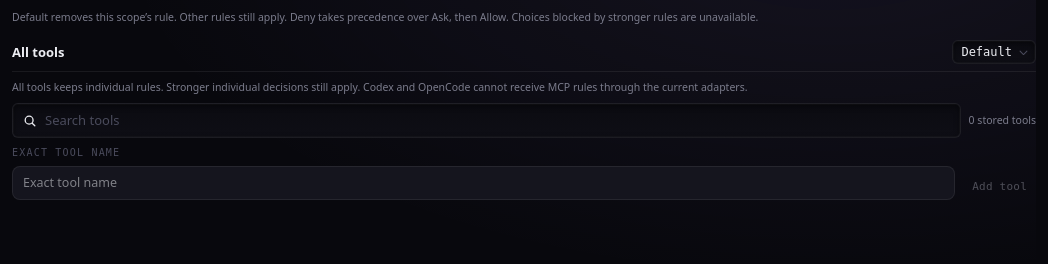
Test case: MCP permission controls › keeps All tools and manual entry usable without a catalog
The width and height of the screenshot is (1048, 264).
Expected: the dropdown named "All tools permission" is enabled, [952,40,1036,64]
Type "read_file" into the field named "Exact MCP tool name" at (484, 183), box [12,166,955,200]
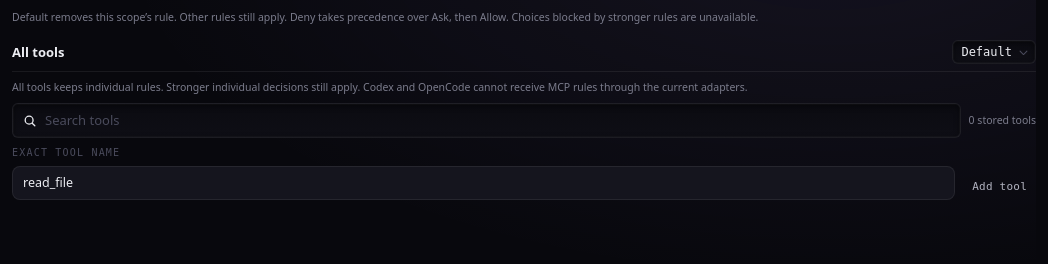
Click the button "Add tool" at (1000, 187), box [963,174,1036,200]
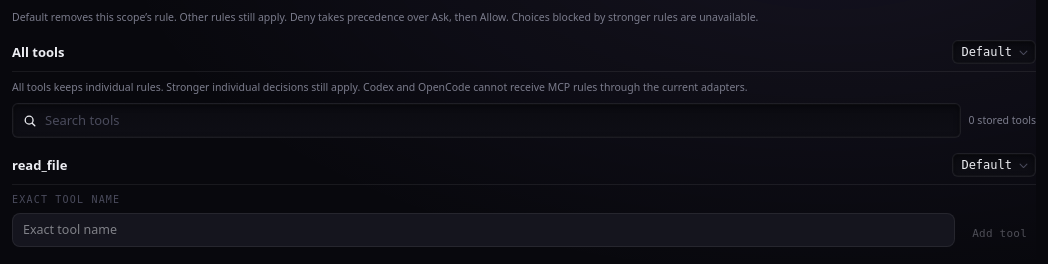
Expected: the dropdown named "read_file permission" is shown, [952,153,1036,177]
